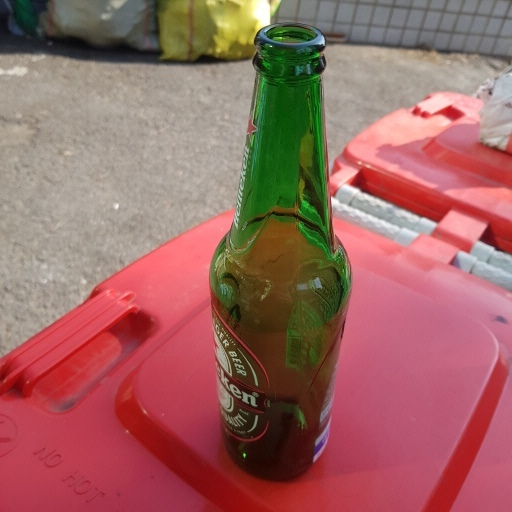Glass_1: (205, 23, 362, 479)
